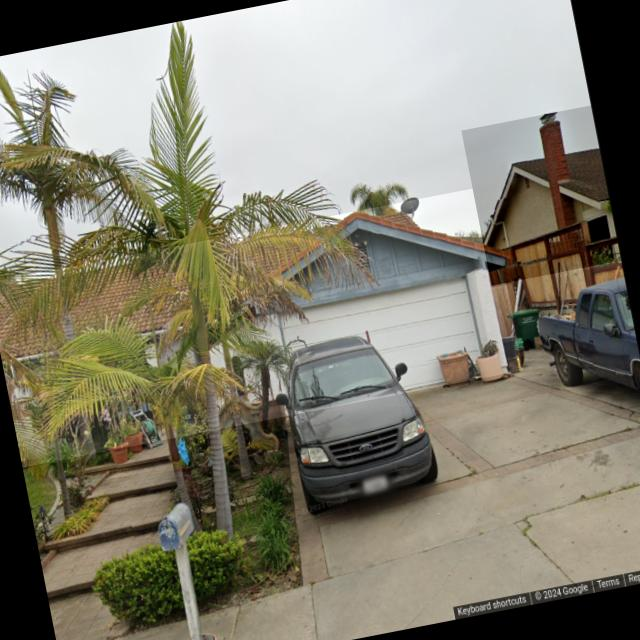House: (0, 185, 523, 467), (462, 106, 621, 286)
